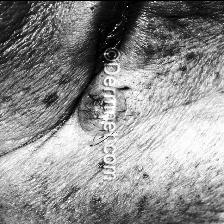Potentially Malignant Skin Tumors: (74, 82, 100, 140), (116, 83, 134, 129)
